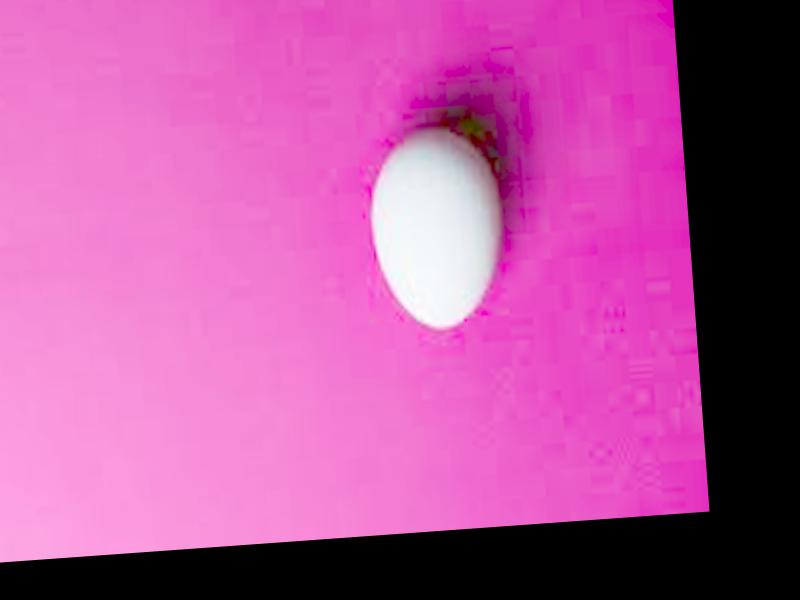Eggs: (365, 126, 506, 333)
